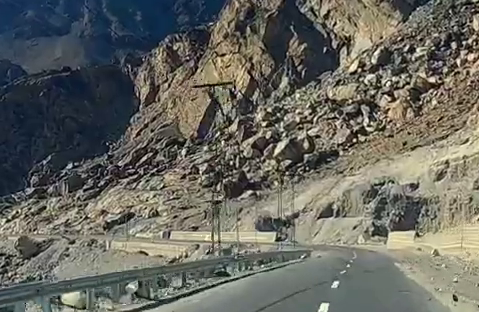right: (275, 220, 442, 294)
